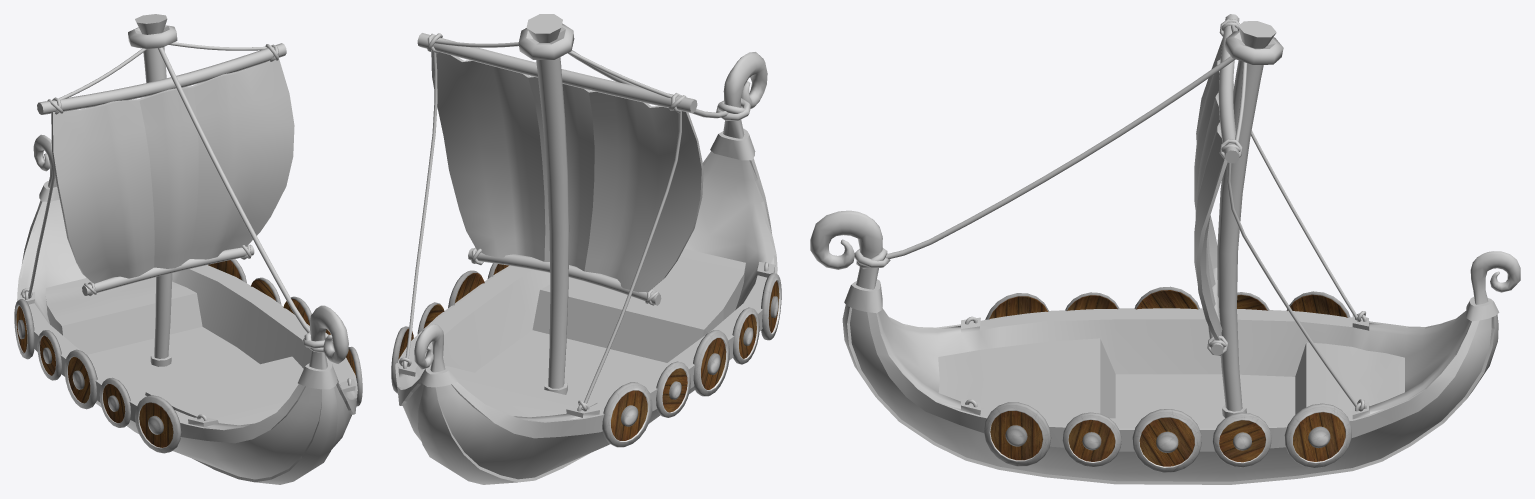
The model's file is Bateau_VikingQuest.FBX.
3 renders of one model, left to right at view 1: azimuth 30°, elevation 25°; view 2: azimuth 150°, elevation 25°; view 3: azimuth 270°, elevation 25°, orthographic. The views are drawn at different scales.
Visible parts, largest first — view 1: Voile, Bateau, Bouclier; view 2: Voile, Bateau, Bouclier; view 3: Bateau, Voile, Bouclier.
Boxes of the visible parts, x1,y1,x2,y2 form: Voile: [21, 14, 351, 420]; Bateau: [17, 134, 357, 484]; Bouclier: [14, 259, 362, 453]; Voile: [399, 14, 768, 411]; Bateau: [395, 52, 777, 484]; Bouclier: [391, 263, 781, 447]; Bateau: [810, 210, 1520, 484]; Voile: [854, 14, 1366, 417]; Bouclier: [984, 286, 1351, 472].
Size of the model in its own units: 301 by 465 by 663.
